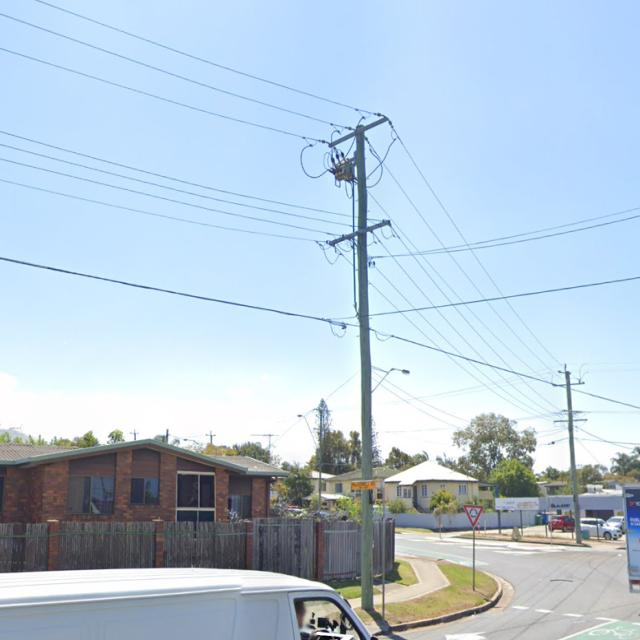HV-switch: (328, 150, 358, 188)
HV-transmission: (320, 111, 396, 149), (558, 363, 571, 374), (206, 430, 217, 437), (130, 429, 139, 434)
crossarm: (328, 116, 390, 146), (325, 219, 391, 245), (552, 382, 585, 387), (554, 418, 588, 422), (562, 409, 582, 413), (206, 434, 215, 437), (560, 372, 571, 374), (130, 432, 139, 434)
streetlight: (297, 414, 320, 458), (371, 368, 410, 393)
timber-pole: (355, 124, 374, 610), (565, 370, 582, 546), (318, 408, 323, 511), (210, 436, 212, 444), (134, 433, 136, 440)
